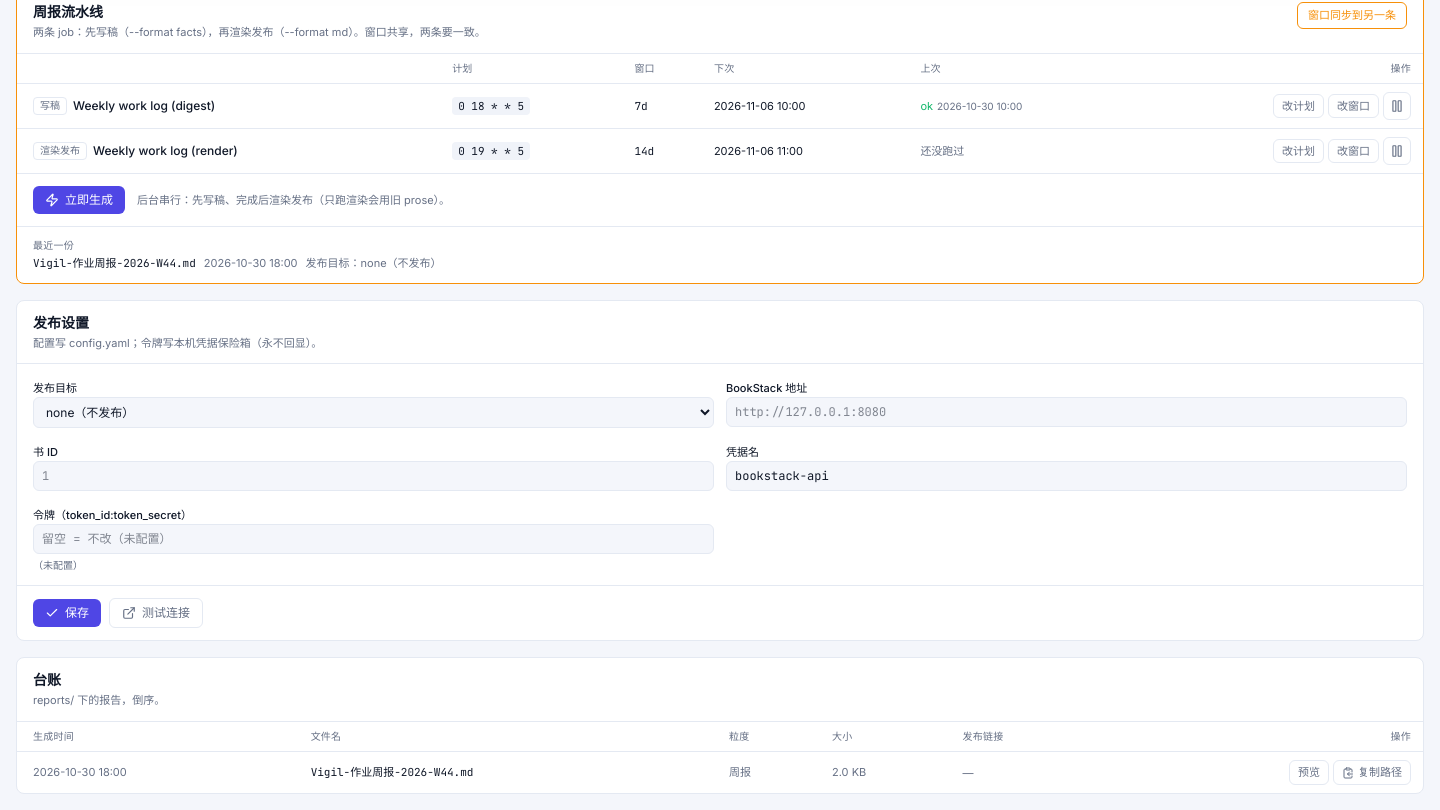
Scenario: RegistrePage › 台账：列表渲染 + 点预览读 /api/digest/reports/{name}
(page scrolled)
Step 1. Click the button "预览" → (1309, 773), box [1289, 760, 1329, 785]
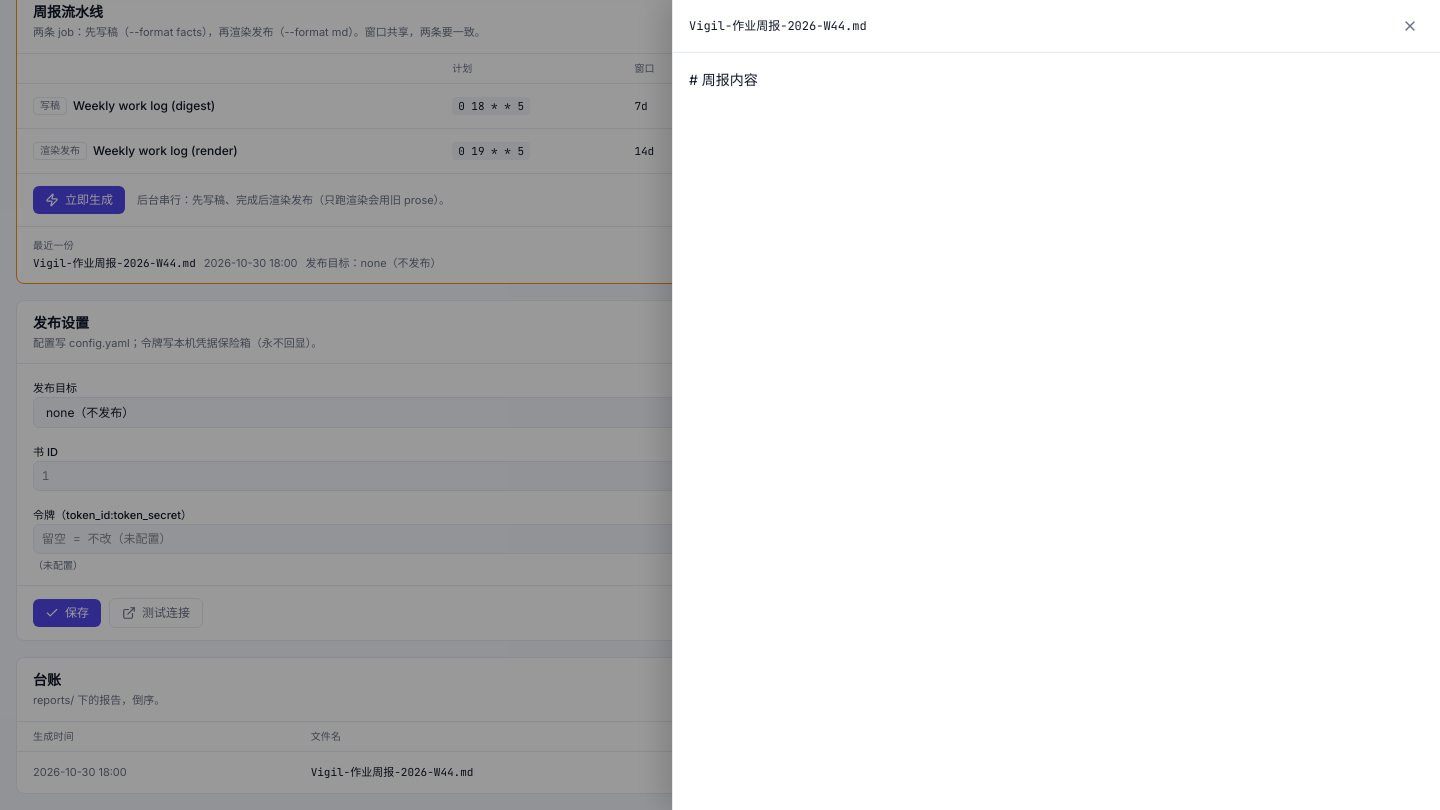
Expected: the text "周报内容" is shown, [689, 71, 758, 88]
